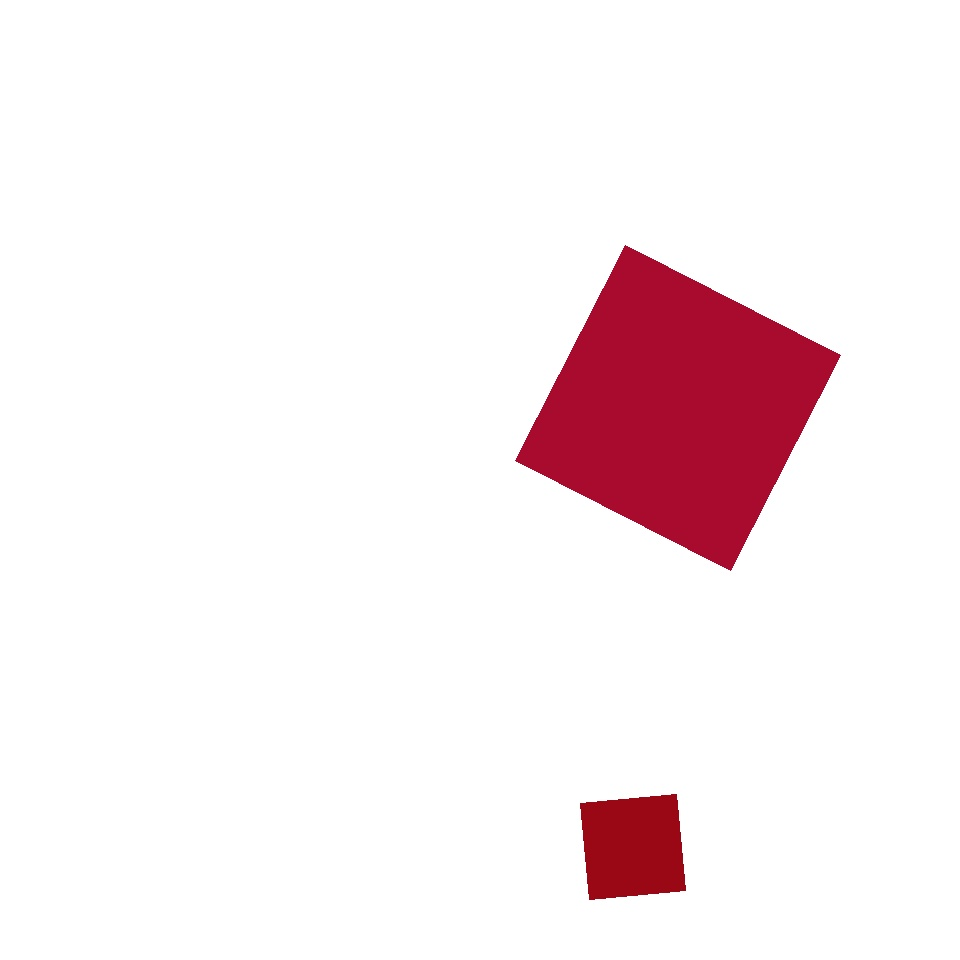circle: (418, 87, 696, 335)
square: (516, 246, 841, 570), (160, 562, 394, 798), (580, 794, 686, 900)
triangle: (482, 219, 662, 400), (656, 390, 818, 552)
